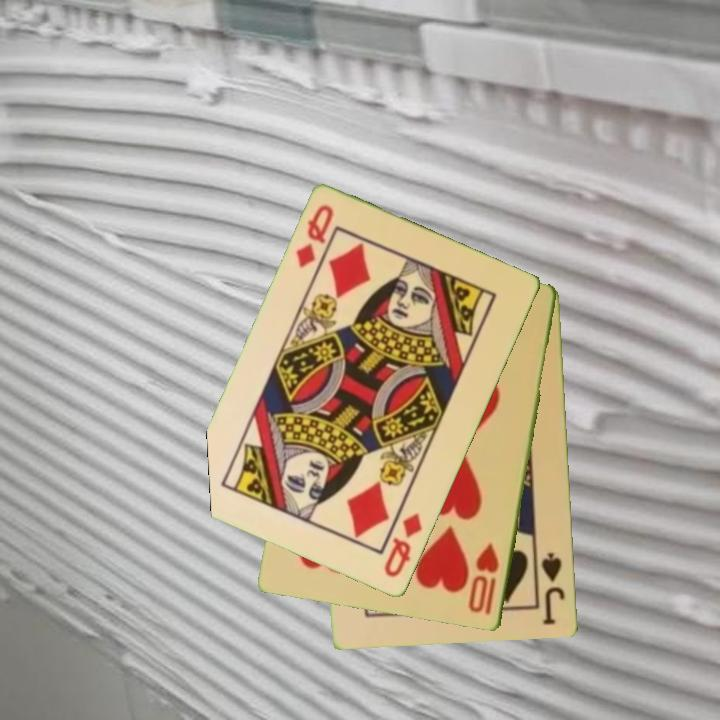10h: (465, 540, 502, 619)
Js: (538, 549, 568, 629)
Qd: (380, 509, 426, 581), (292, 201, 337, 272)
